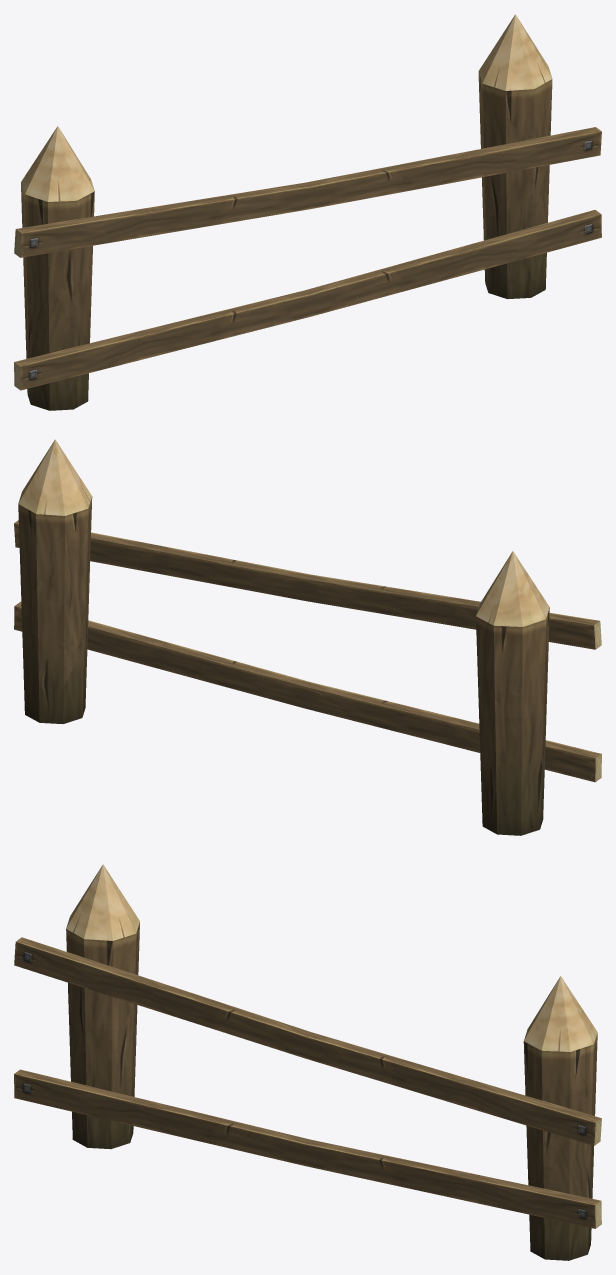
The model's file is wooden_fence_49.fbx.
3 renders of one model, top to bottom at view 1: azimuth 30°, elevation 25°; view 2: azimuth 150°, elevation 25°; view 3: azimuth 330°, elevation 25°, orthographic.
Parts seen in each view (by area): view 1: wooden_fence_49:Mesh; view 2: wooden_fence_49:Mesh; view 3: wooden_fence_49:Mesh.
Boxes of the visible parts, x1,y1,x2,y2 form: wooden_fence_49:Mesh: (14,14,601,410); wooden_fence_49:Mesh: (14,439,601,835); wooden_fence_49:Mesh: (14,864,601,1260).
Size of the model in its own units: 8.09 by 3.62 by 1.08.
